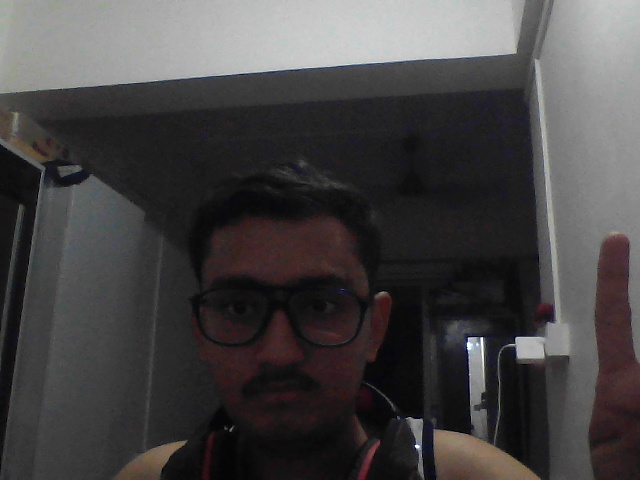Hello: (566, 197, 640, 480)
